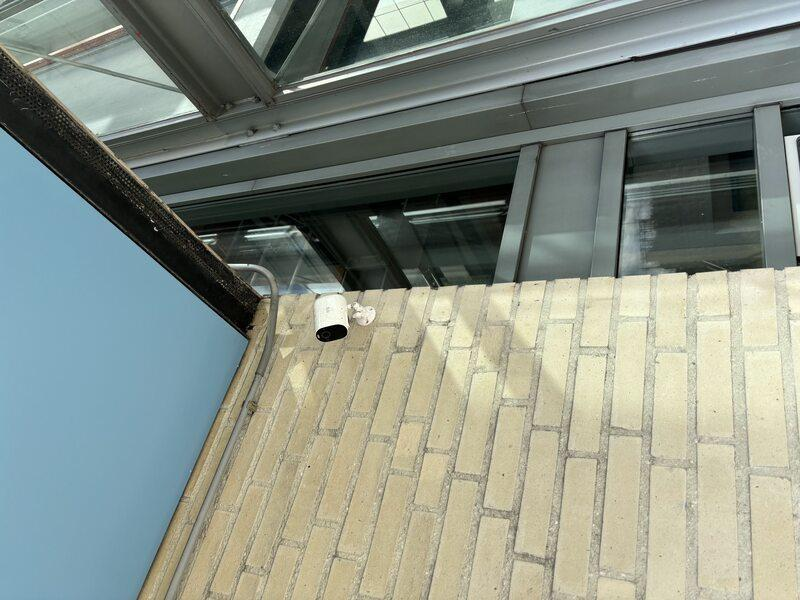bullet: (250, 305, 310, 363)
